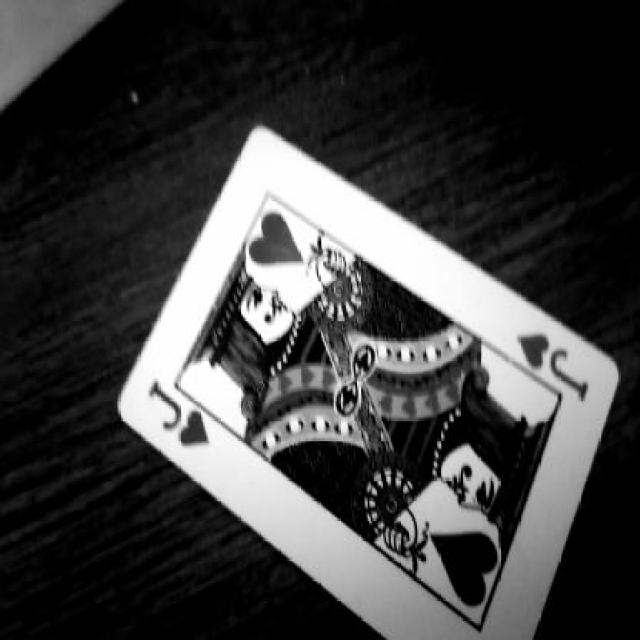JH: (142, 356, 223, 476), (515, 322, 613, 413)
